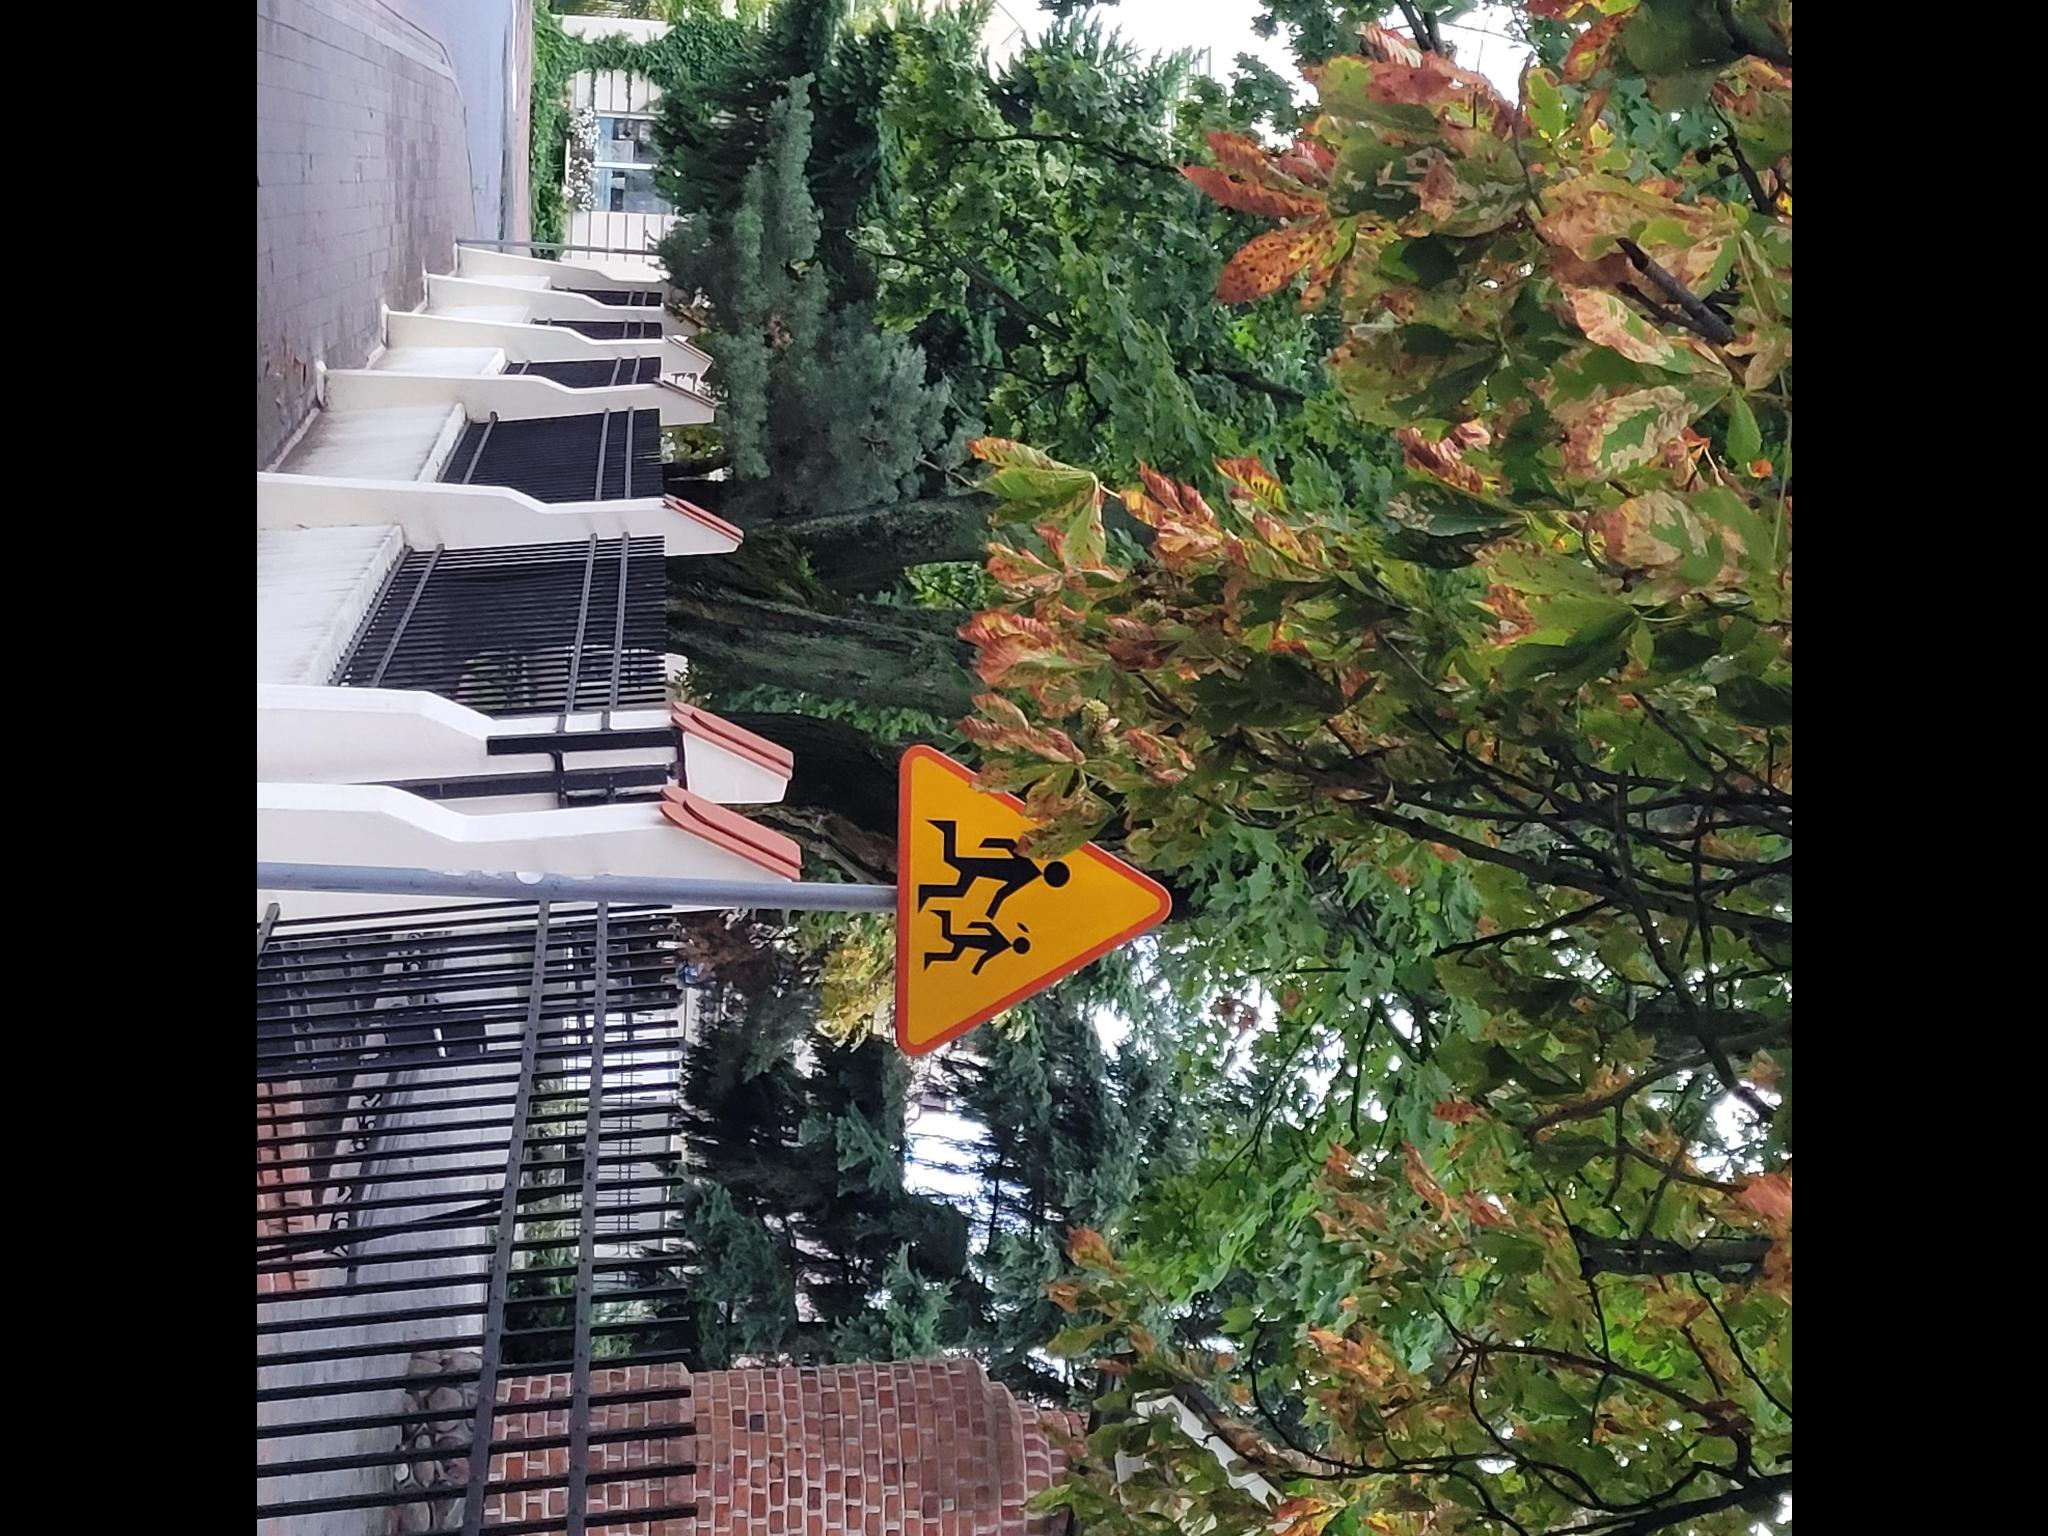warning: (893, 736, 1179, 1063)
